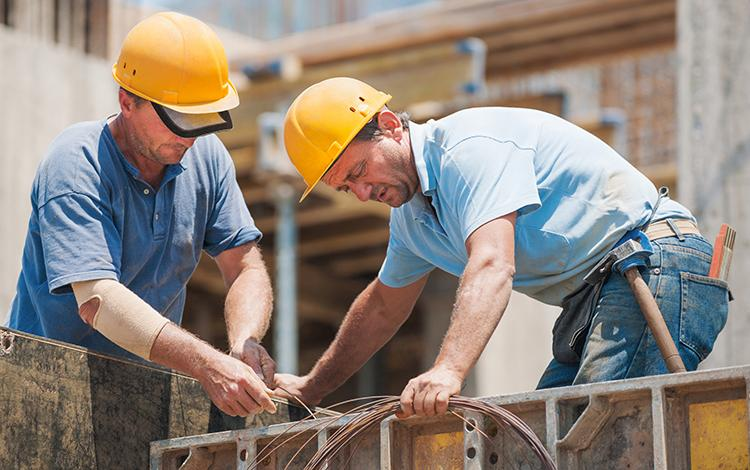helmet: (282, 75, 394, 205), (112, 10, 242, 117)
